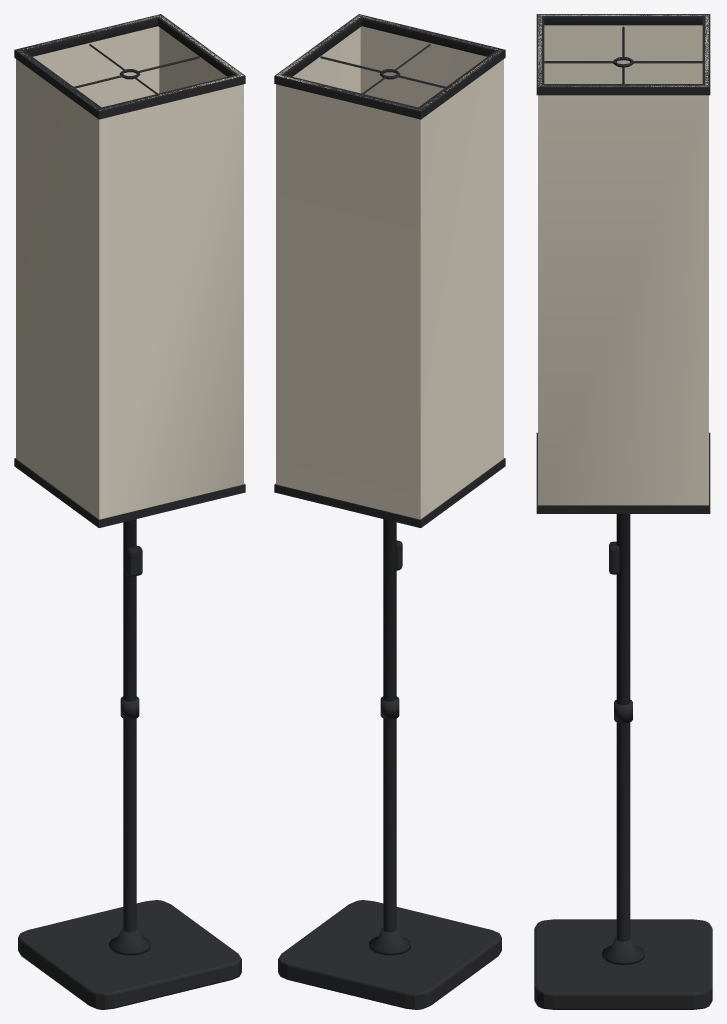
File: floorLampSimple.glb
3 views of the same model, side by side, from view 1: azimuth 30°, elevation 25°; view 2: azimuth 150°, elevation 25°; view 3: azimuth 270°, elevation 25° (orthographic). The views are drawn at different scales.
Parts seen in each view (by area): view 1: floorLampSimple; view 2: floorLampSimple; view 3: floorLampSimple.
Boxes of the visible parts, x1,y1,x2,y2 form: floorLampSimple: (14, 14, 245, 1009); floorLampSimple: (274, 14, 505, 1009); floorLampSimple: (534, 14, 712, 1009).
Size of the model in its own units: 0.28 by 1.6 by 0.28.
